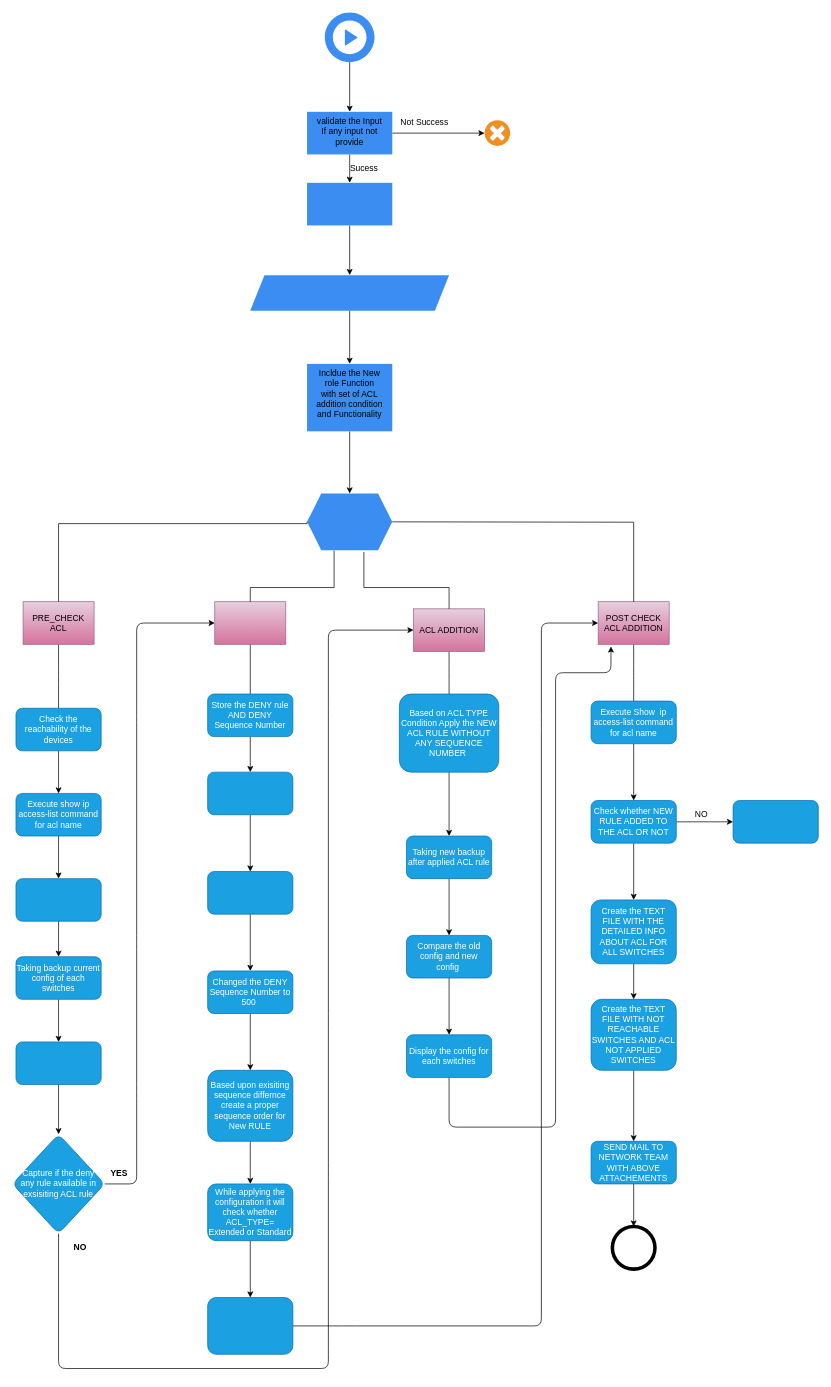
The diagram is 831 pixels wide and 1387 high, and some of its shapes have lost their labels. Here are the shapes that lost their labels. From the top down, the centre of each, then its label:
At point (349, 203): "Dynamically create the inventory and host group".
At point (349, 292): "Use the above inventory call the new play book for ACL addition".
At point (349, 521): "Task (Bunch of mulitple play available in this folder".
At point (250, 622): "DENY ANY RULE CONDITION".
At point (250, 793): "Store the DENY previous RULE Sequence Number".
At point (775, 821): "FAILED TO PARTICULAR SWITCH IF NOT ADDED".
At point (58, 899): "Storing the ACL TYPE".
At point (250, 892): "Store the Difference between DENY and PREVIOUS rule Sequence".
At point (58, 1063): "Remove existing ACL rules from the new given list".
At point (633, 1247): "STOP".
At point (250, 1325): "Compare the new confiureation with old config backup".
